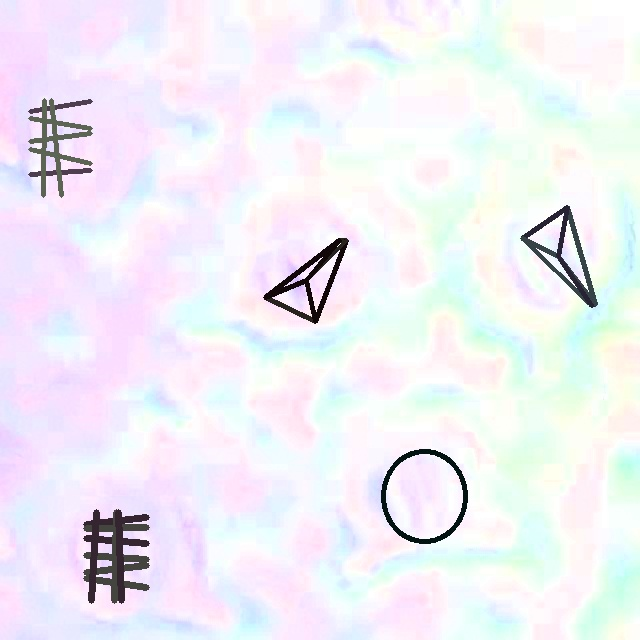close: (381, 449, 467, 544), (83, 509, 149, 602)
open: (520, 205, 597, 307), (263, 238, 348, 323), (28, 98, 92, 197)
